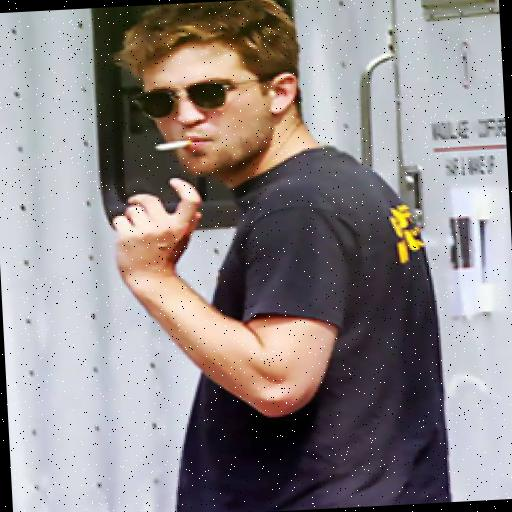terdeteksi merokok: (134, 64, 236, 190)
